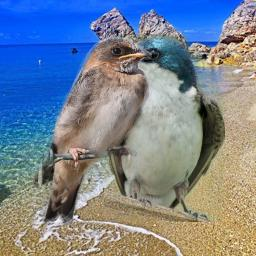Swallow: (31, 36, 152, 225), (104, 34, 225, 222)
